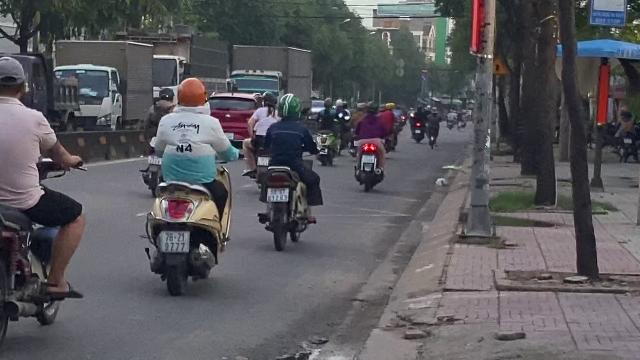helmet: (176, 77, 208, 109), (276, 93, 302, 119), (155, 85, 175, 109)
licenseplate: (161, 231, 189, 251), (268, 187, 288, 201)
motorcyclist: (0, 53, 88, 356), (138, 77, 236, 297), (250, 92, 322, 248)
nohelmet: (1, 56, 30, 102)
